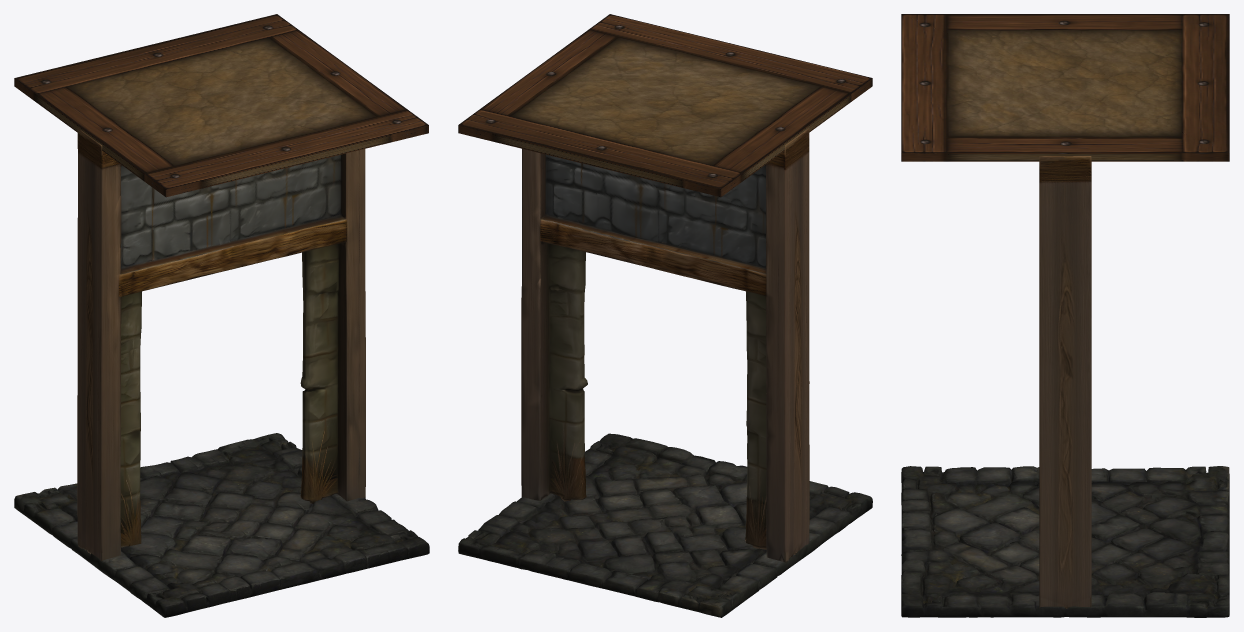
The model's file is Dungeon_Door_Frame.glb.
The picture shows the model from 3 angles, left to right: view 1: azimuth 30°, elevation 25°; view 2: azimuth 150°, elevation 25°; view 3: azimuth 270°, elevation 25°; orthographic projection. The views are drawn at different scales.
Visible parts, largest first — view 1: Meshy_AI_Dungeon_Gate_1215093133_texture, Cube, Mesh_0; view 2: Meshy_AI_Dungeon_Gate_1215093133_texture, Cube, Mesh_0; view 3: Cube, Mesh_0, Meshy_AI_Dungeon_Gate_1215093133_texture.
Part boxes in pixels (box(x1,y1,x2,y2)): Meshy_AI_Dungeon_Gate_1215093133_texture: box(77, 128, 365, 561); Cube: box(14, 14, 428, 197); Mesh_0: box(14, 433, 429, 617); Meshy_AI_Dungeon_Gate_1215093133_texture: box(521, 128, 809, 562); Cube: box(458, 14, 872, 197); Mesh_0: box(458, 433, 872, 617); Cube: box(901, 14, 1229, 161); Mesh_0: box(901, 466, 1229, 617); Meshy_AI_Dungeon_Gate_1215093133_texture: box(1039, 156, 1091, 608).
Bounding box in the file's own units: 2.03 × 3.12 × 2.
Materials: 3 (3 with a texture image).
